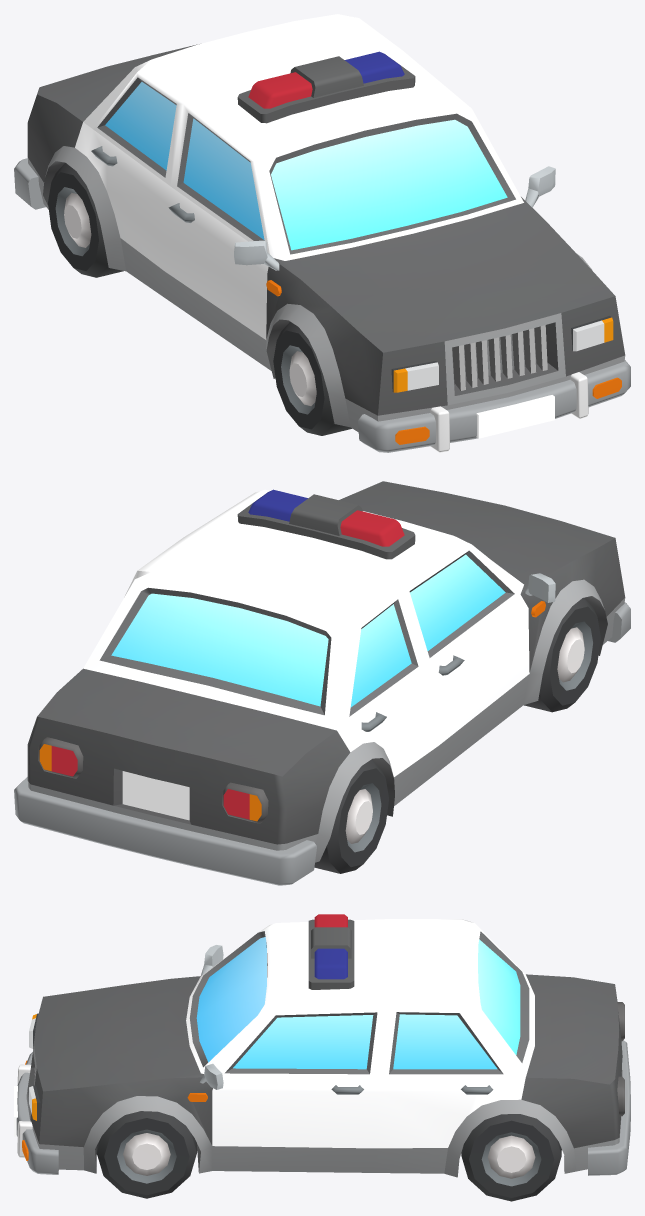
The model's file is Car_41.glb.
The picture shows the model from 3 angles, top to bottom: view 1: azimuth 30°, elevation 25°; view 2: azimuth 150°, elevation 25°; view 3: azimuth 270°, elevation 25°; orthographic projection. The views are drawn at different scales.
Parts seen in each view (by area): view 1: Car_41, Wheel_153, Wheel_154; view 2: Car_41, Wheel_154, Wheel_153; view 3: Car_41, Wheel_155, Wheel_156.
Part boxes in pixels (box(x1,y1,x2,y2)): Car_41: box(14, 14, 630, 452); Wheel_153: box(273, 321, 351, 435); Wheel_154: box(48, 163, 123, 277); Car_41: box(14, 481, 630, 885); Wheel_154: box(314, 759, 388, 873); Wheel_153: box(524, 597, 600, 712); Car_41: box(14, 914, 630, 1177); Wheel_155: box(96, 1111, 196, 1198); Wheel_156: box(461, 1114, 561, 1201).
Bounding box in the file's own units: 2.26 × 1.69 × 4.5.
2 materials, 2 textured.
